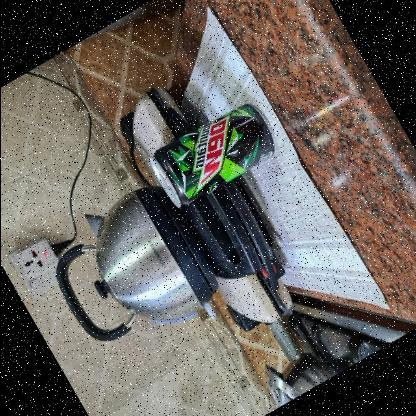Can: (147, 102, 278, 212)
